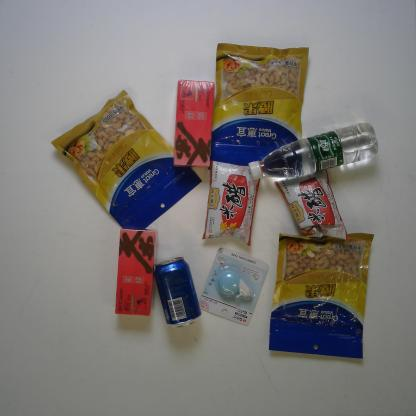Dried Fruit: (50, 88, 202, 235), (268, 224, 377, 360), (202, 39, 313, 167)
Drink: (247, 120, 379, 181), (154, 256, 202, 326)
Instant Drink: (172, 78, 215, 168), (114, 229, 156, 316)
Seasoner: (273, 165, 347, 246), (201, 150, 260, 245)
Stationery: (198, 248, 272, 326)
